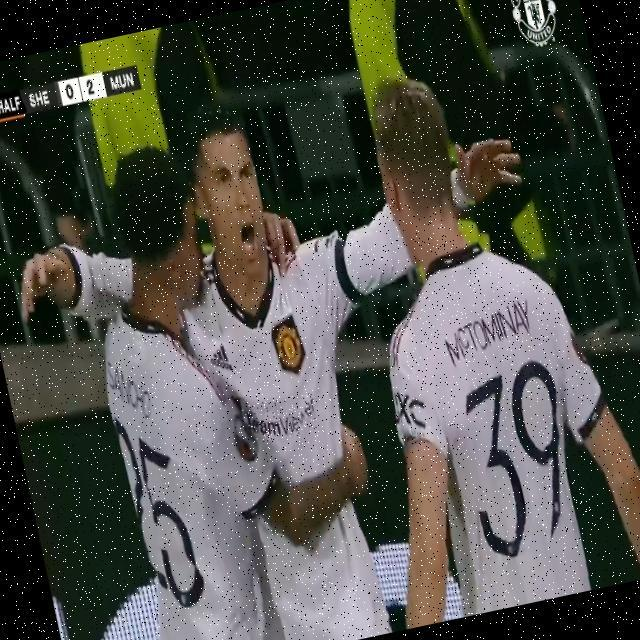Adidas: (205, 340, 235, 377)
TeamViewer: (241, 391, 322, 445)
